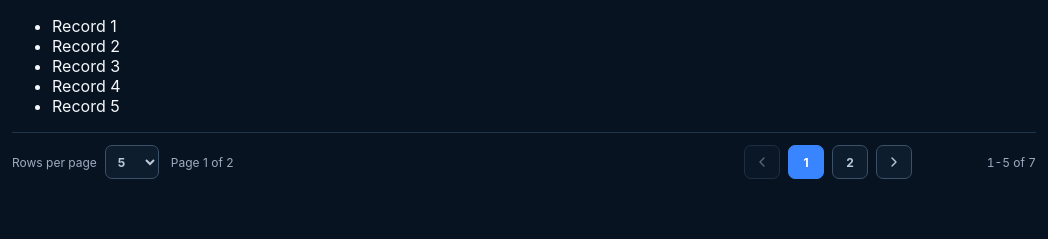
shared pagination › moves through records and returns to the first page when the page size changes
Expected: the list item "Record 1" is shown, [52,16,117,36]
Expected: the text "Record 6" is not shown
Step 1. Click the button named "Next Test records page" → (894, 162), box [876,145,912,179]
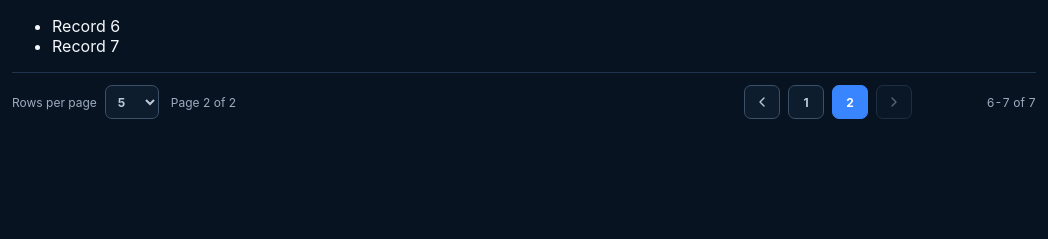
Expected: the list item "Record 6" is shown, [52,16,120,36]
Step 2. Select "10" in the dropdown named "Test records rows per page" → (132, 102), box [105,85,159,119]
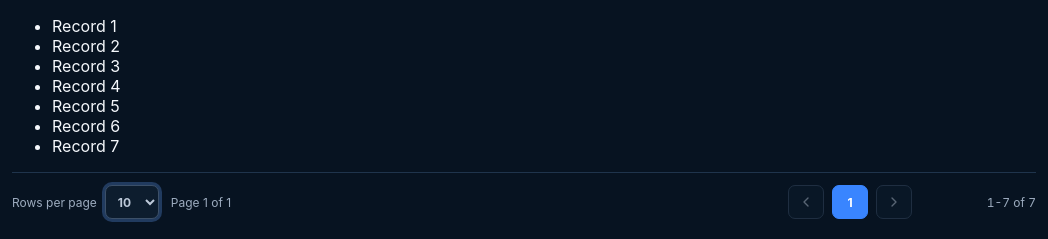
Expected: the list item "Record 7" is shown, [52,136,119,156]
Expected: the list item "Record 1" is shown, [52,16,117,36]
